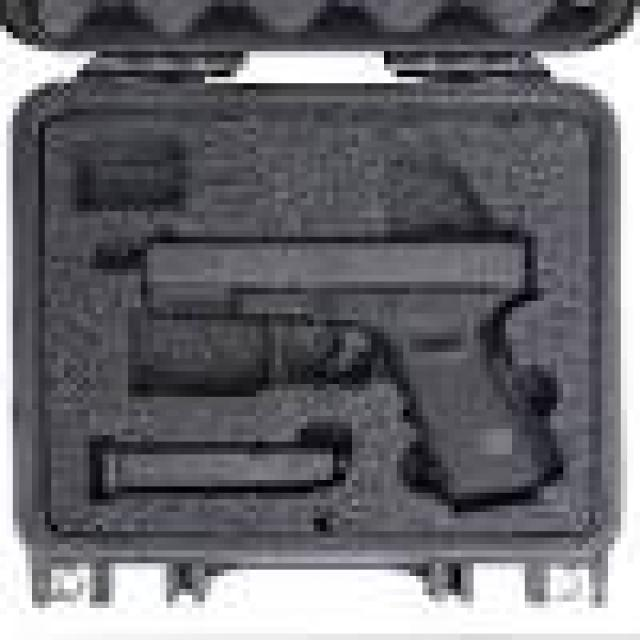Gun: (139, 222, 562, 514)
